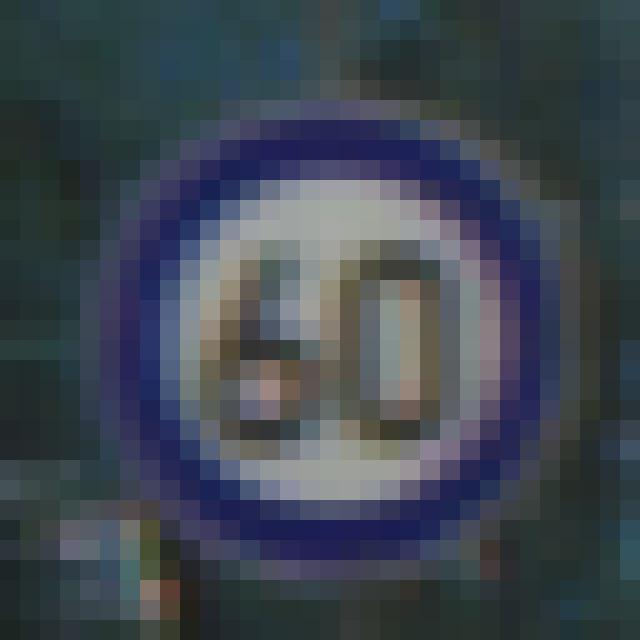SPEED-LIMIT-60: (82, 84, 577, 595)
